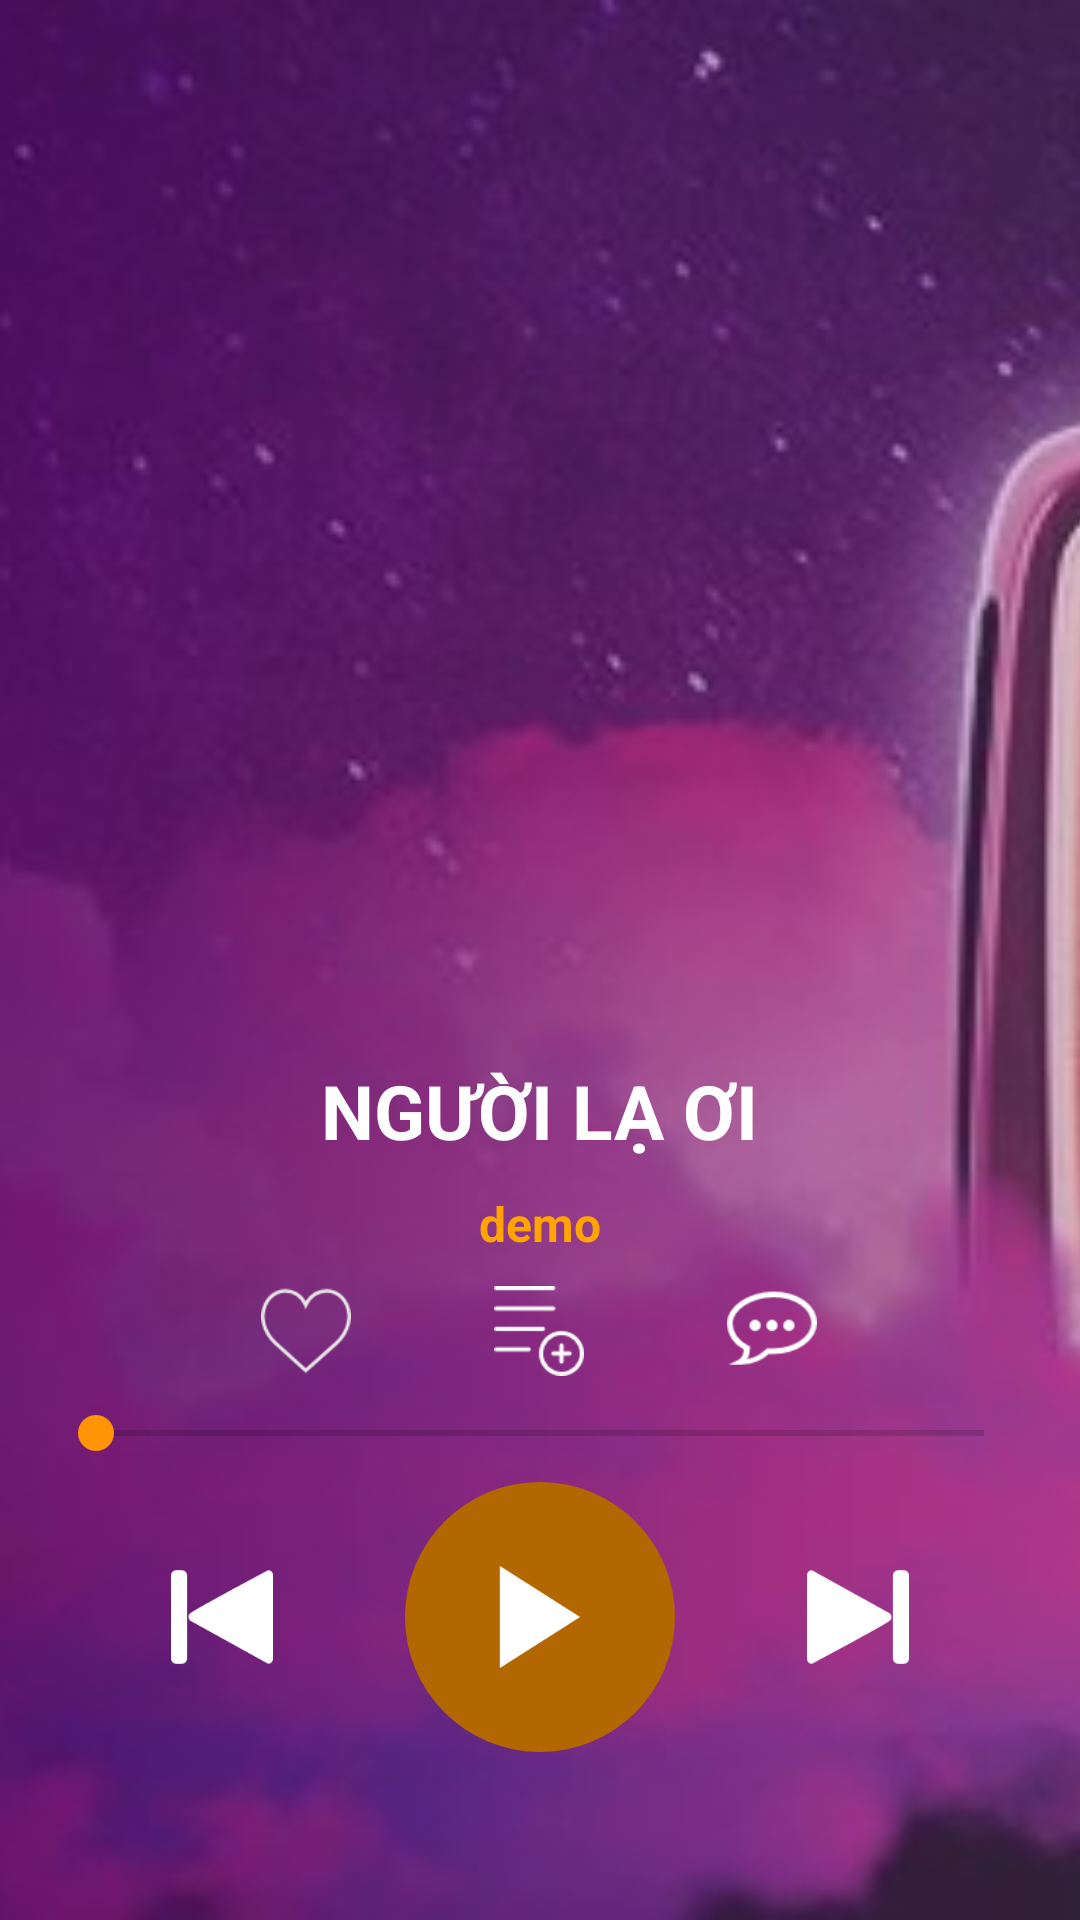

Point at icon controls on the screen. Image size 1080x1920, points as (x,y).
addplaylist: (539,1331)
commenting: (772,1328)
like: (306,1330)
next: (858,1617)
play: (540,1617)
